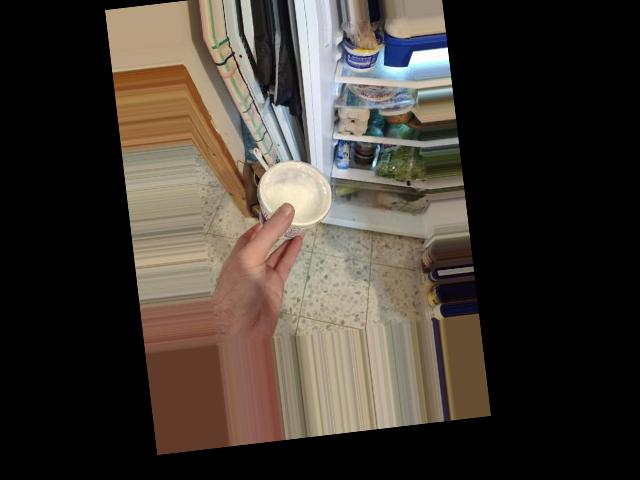cotage: (253, 152, 329, 244)
